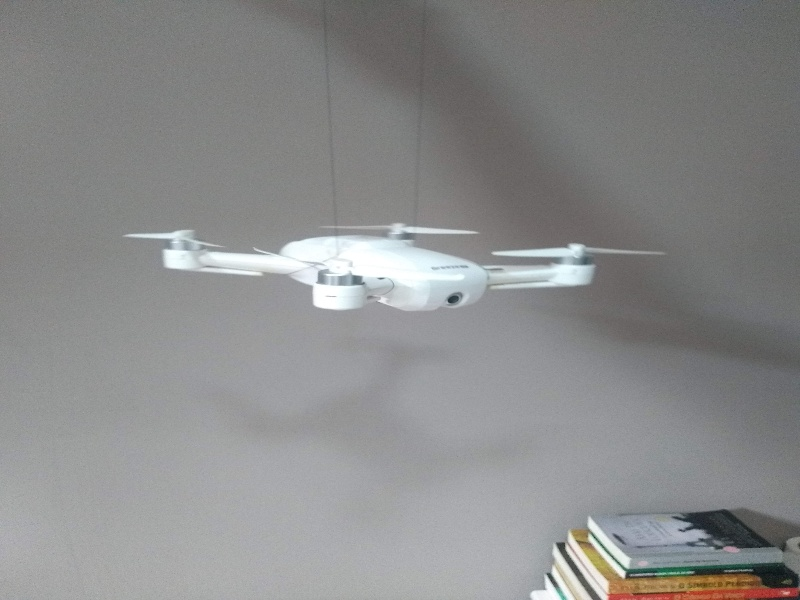drone: (138, 212, 636, 323)
